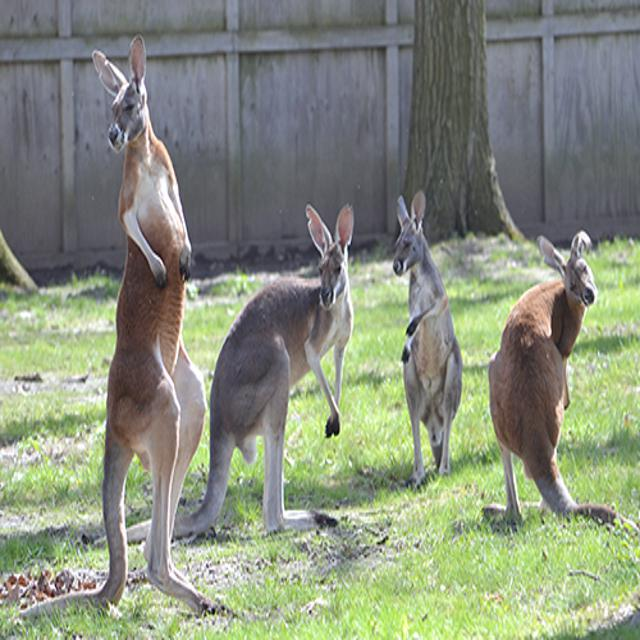kangaroo: (83, 46, 205, 602), (208, 200, 362, 532), (490, 226, 601, 518), (387, 193, 458, 484)
